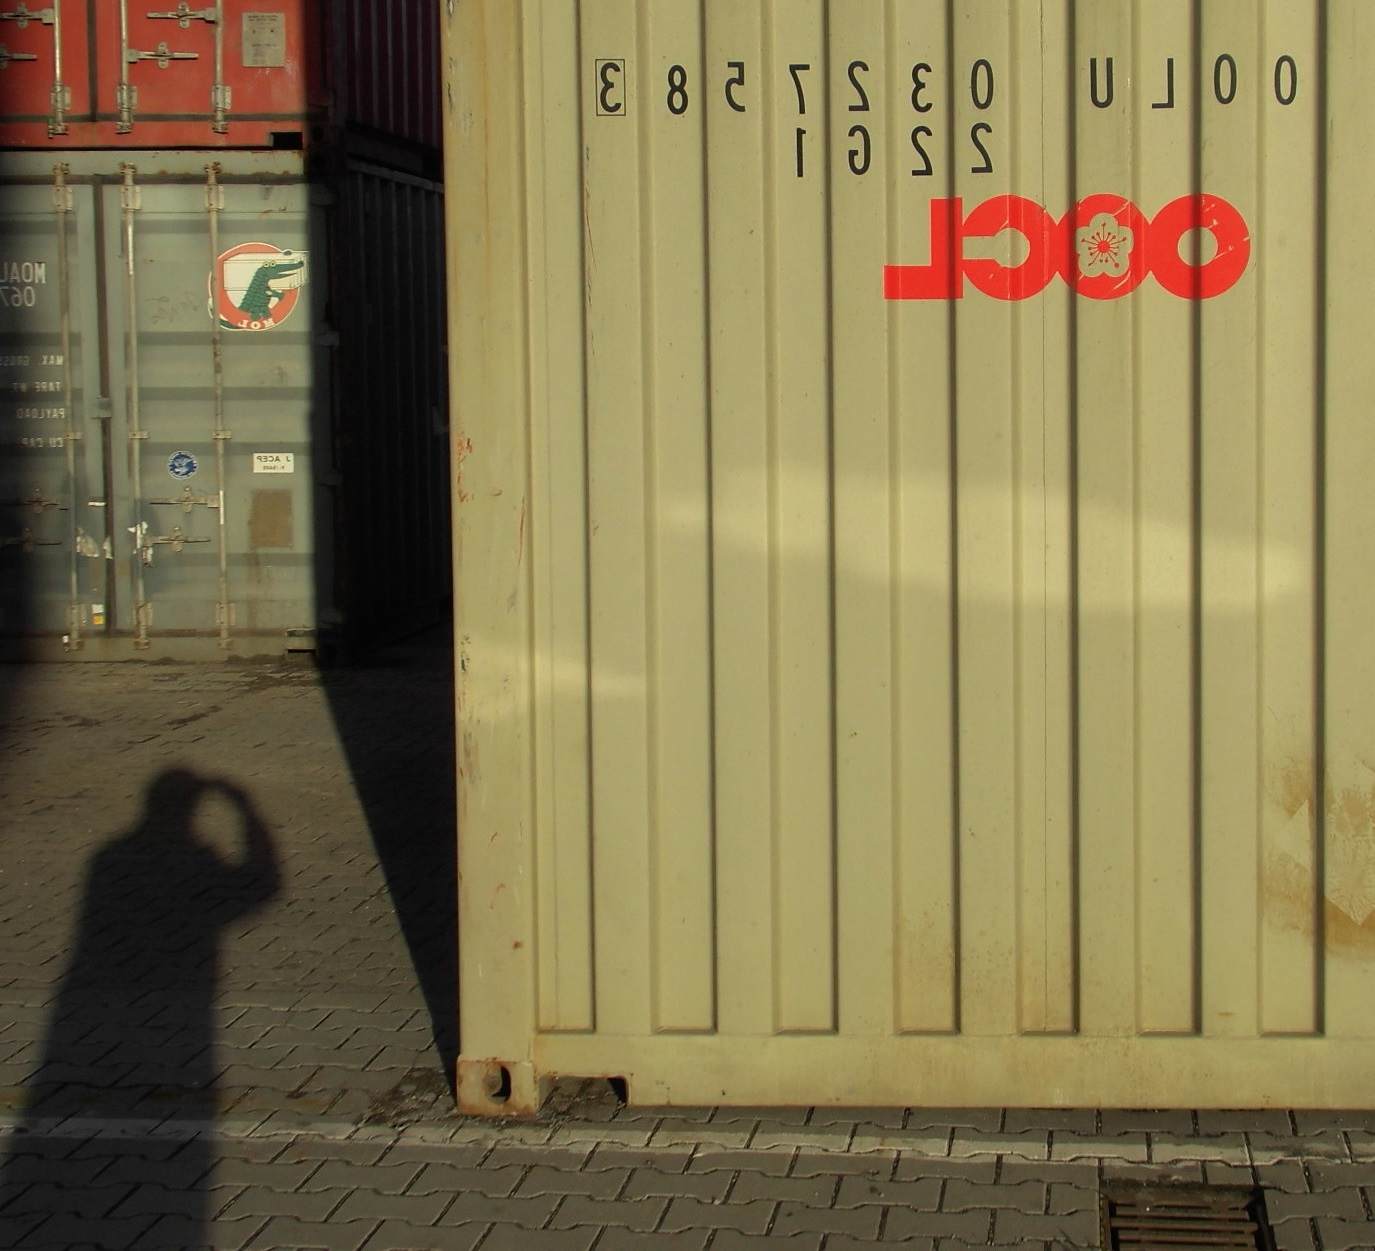container_door: (17, 145, 349, 669), (1, 1, 313, 143)
container_no_door: (459, 1, 1369, 1117)
